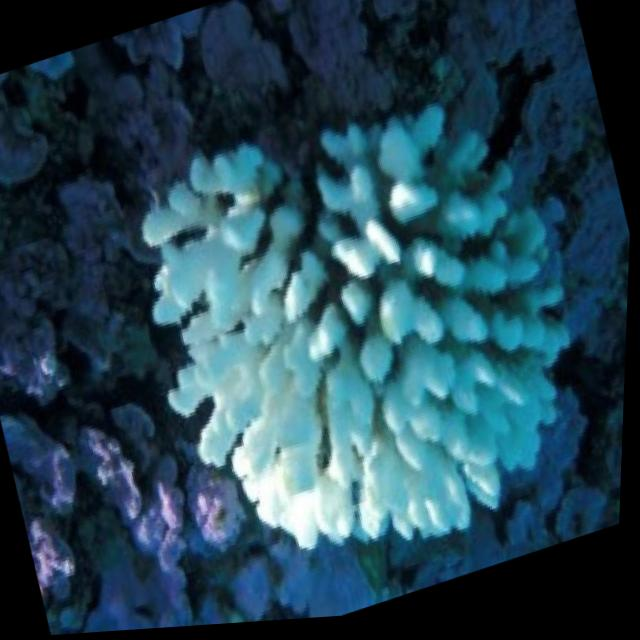Bleached Coral: (107, 47, 625, 629)
